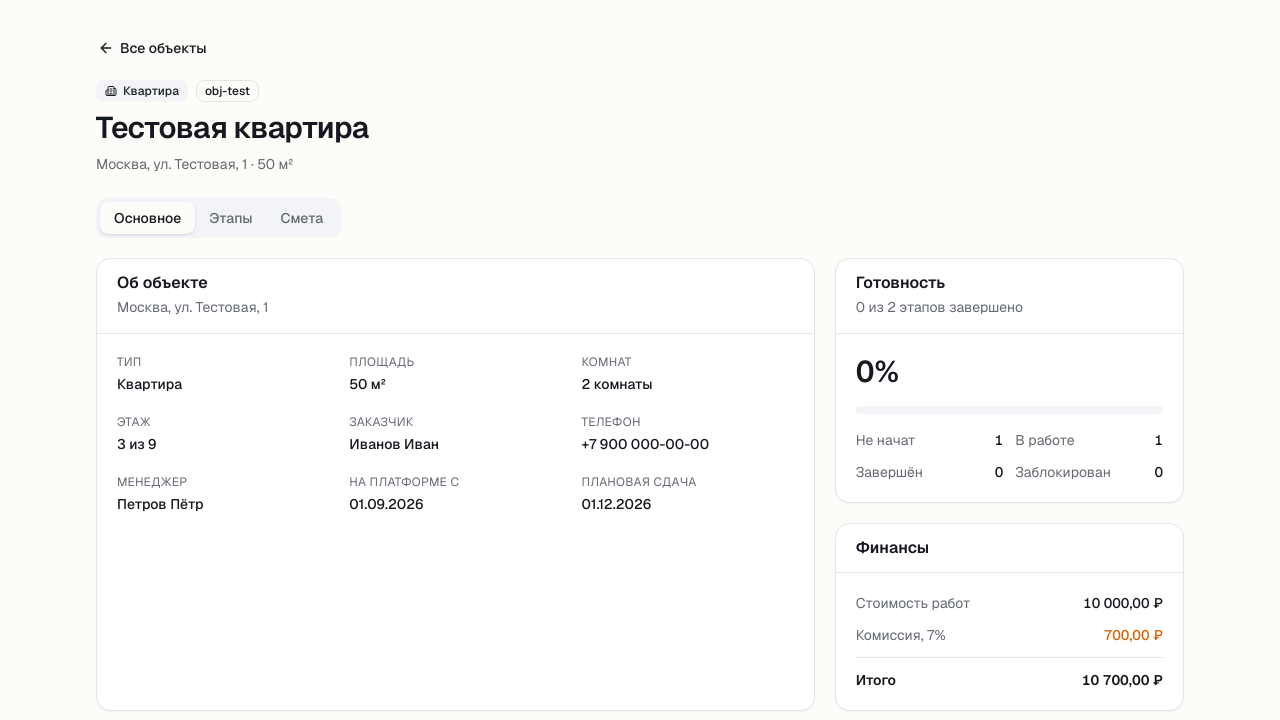
Test: ObjectPassportView · смена статуса этапа › после старта предлагает уже другой набор переходов
Click the tab "Этапы" at (231,218), box x1=195 y1=202 x2=266 y2=234
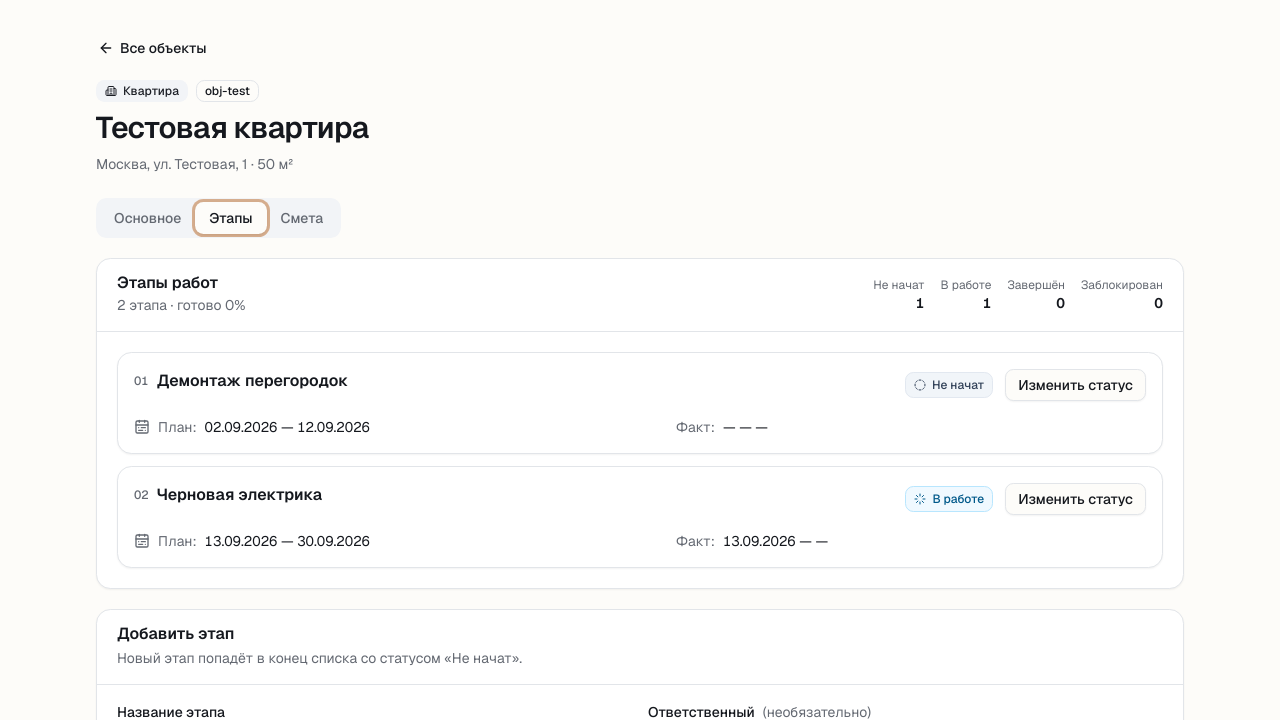
Click the button "Изменить статус" in the row of "Демонтаж перегородок" at (1076,385), box x1=1005 y1=369 x2=1146 y2=401
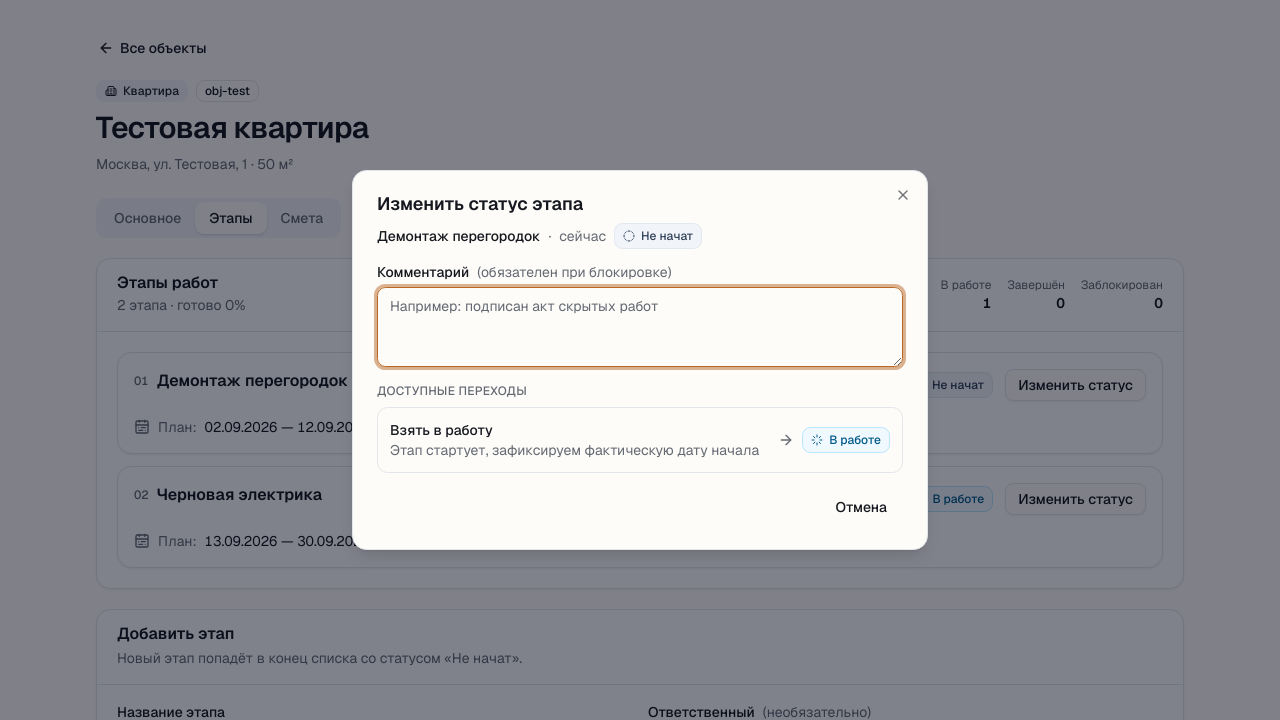
Click the button with test id "transition-in_progress" at (640,440), box x1=377 y1=407 x2=903 y2=473
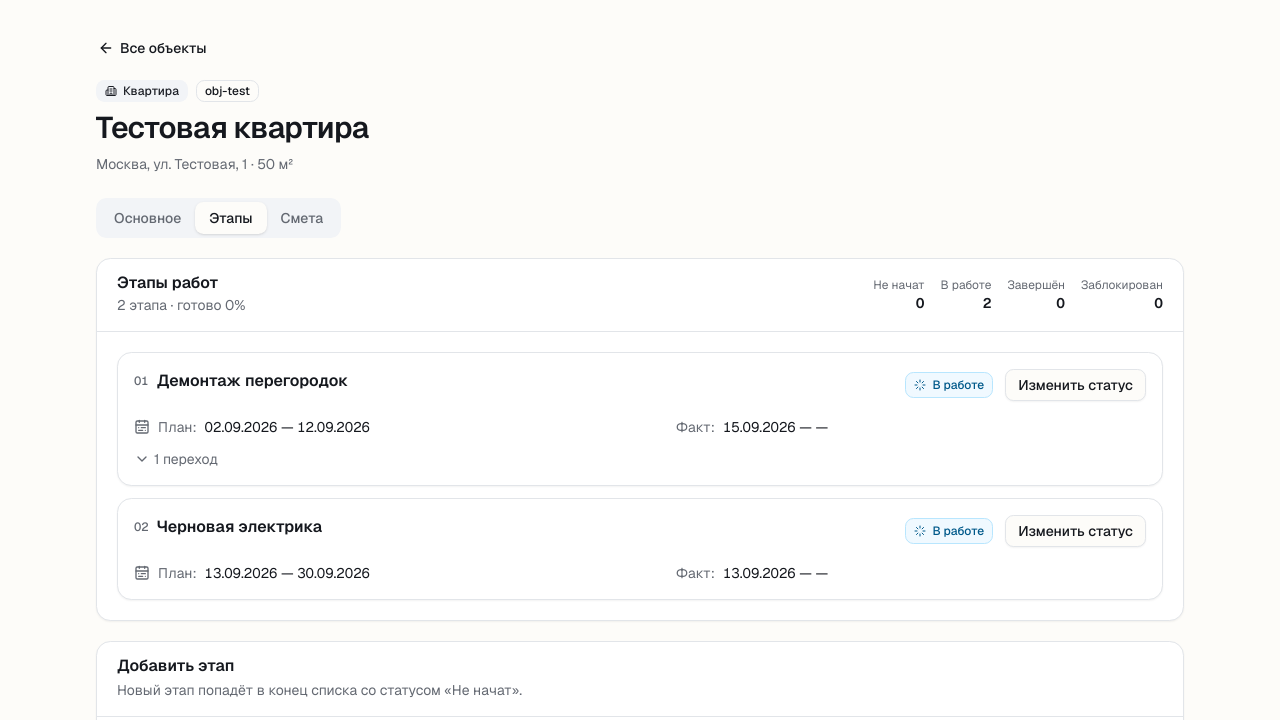
Click the button "Изменить статус" in the row of "Демонтаж перегородок" at (1076,385), box x1=1005 y1=369 x2=1146 y2=401
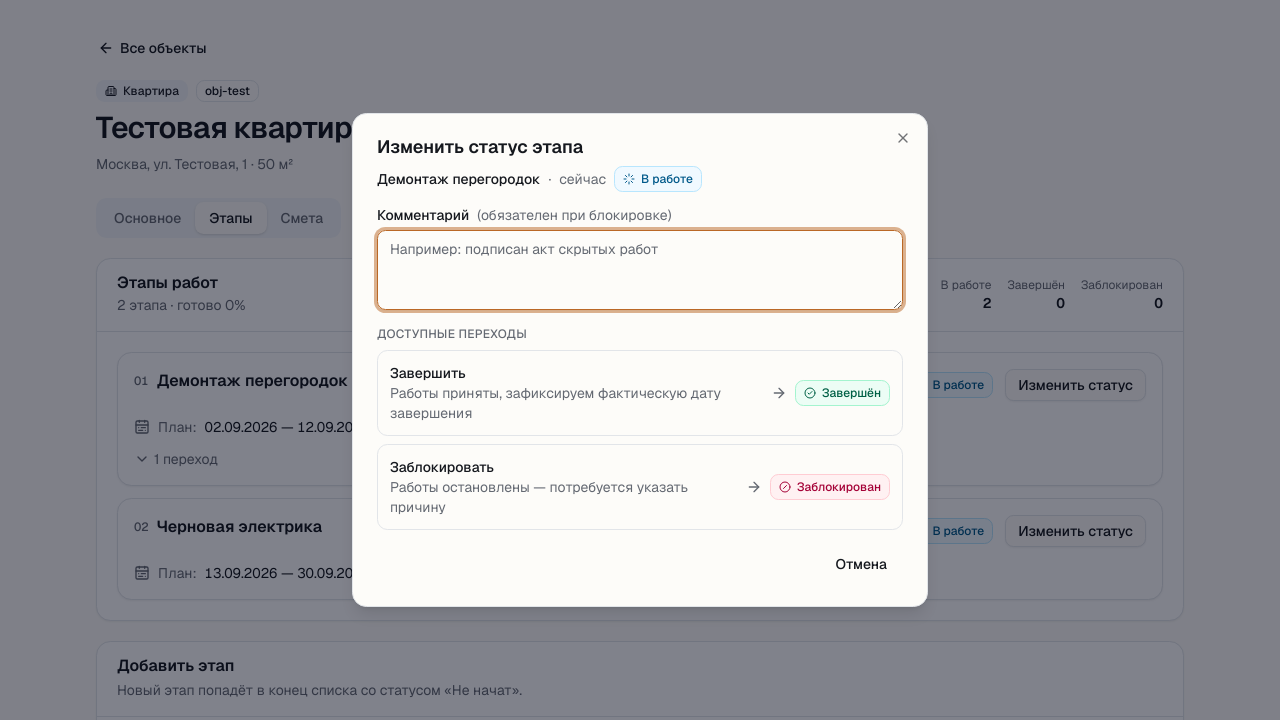
Check: the button with test id "transition-completed" is shown, box x1=377 y1=350 x2=903 y2=436
Check: the button with test id "transition-blocked" is shown, box x1=377 y1=444 x2=903 y2=530
